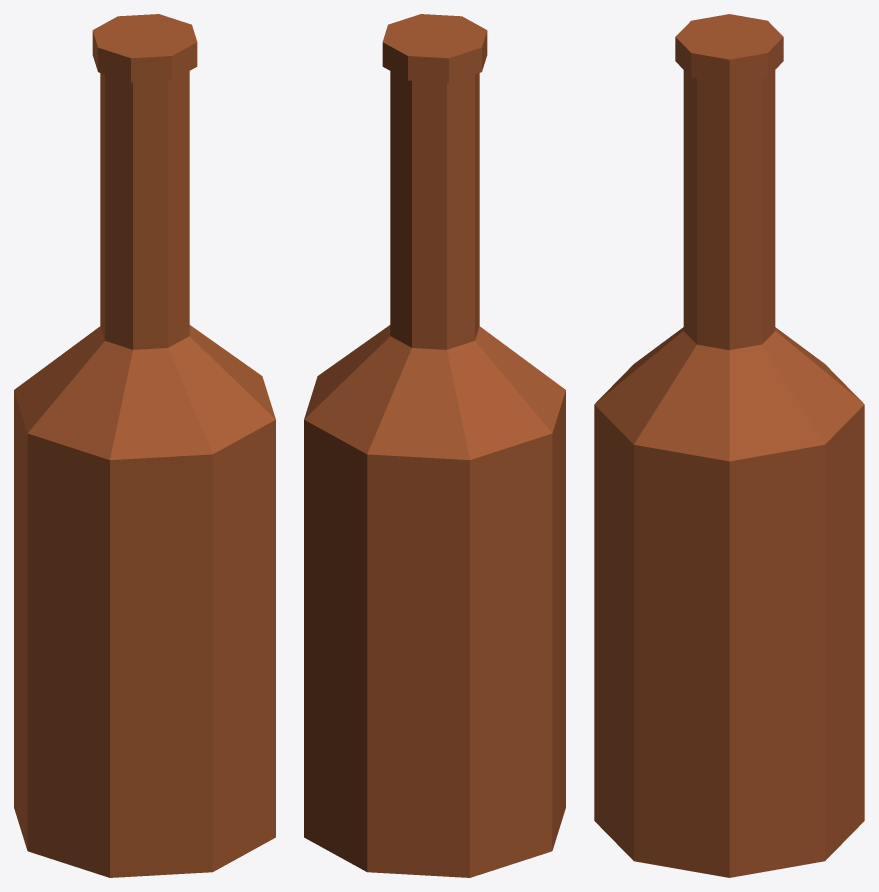
File: bottle-amber.glb
The picture shows the model from 3 angles, left to right: view 1: azimuth 30°, elevation 25°; view 2: azimuth 150°, elevation 25°; view 3: azimuth 270°, elevation 25°; orthographic projection.
Parts seen in each view (by area): view 1: bottle; view 2: bottle; view 3: bottle.
Part boxes in pixels (<box>): bottle: <box>14,14,275,877</box>; bottle: <box>304,14,565,877</box>; bottle: <box>594,14,864,877</box>.
Size of the model in its own units: 0.1 by 0.32 by 0.1.
